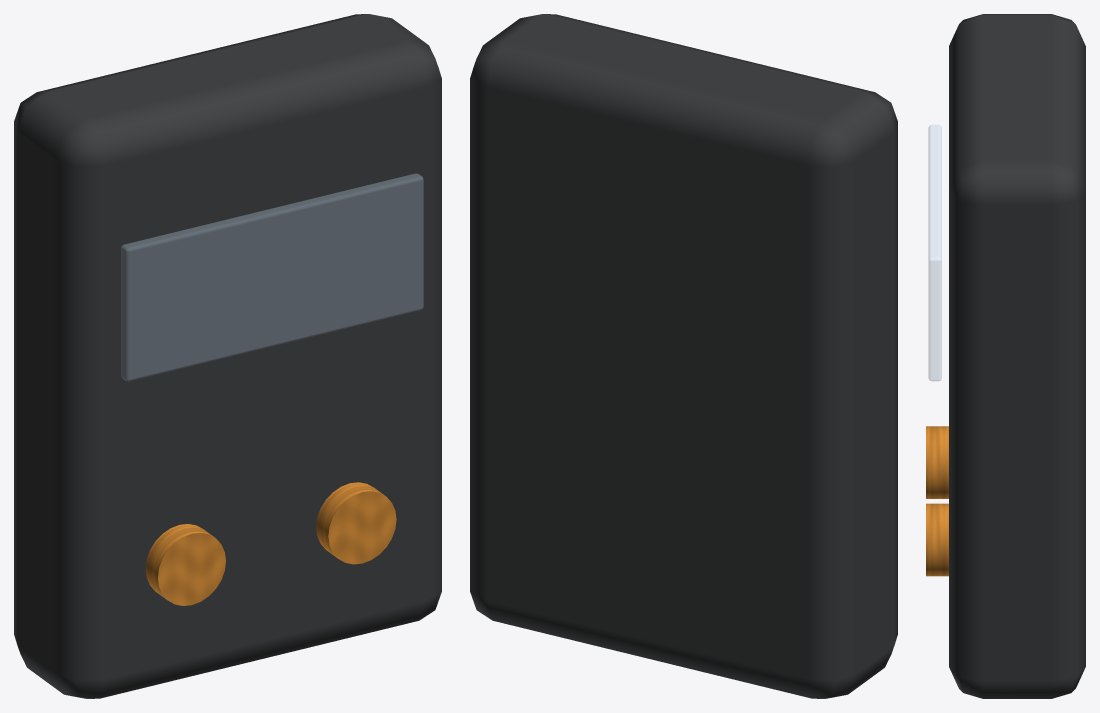
The model's file is fps-weapon-set-and-firing-range-shot-timer-42f01b88__19510.glb.
3 views of the same model, side by side, from view 1: azimuth 30°, elevation 25°; view 2: azimuth 150°, elevation 25°; view 3: azimuth 270°, elevation 25° (orthographic). The views are drawn at different scales.
Parts seen in each view (by area): view 1: shot-timer; view 2: shot-timer; view 3: shot-timer.
Boxes of the visible parts, box(x1,y1,x2,y2) form: shot-timer: box(14, 14, 441, 698); shot-timer: box(470, 14, 897, 698); shot-timer: box(926, 14, 1085, 698).
Size of the model in its own units: 0.09 by 0.13 by 0.035.
Materials: 3 (1 with a texture image).
